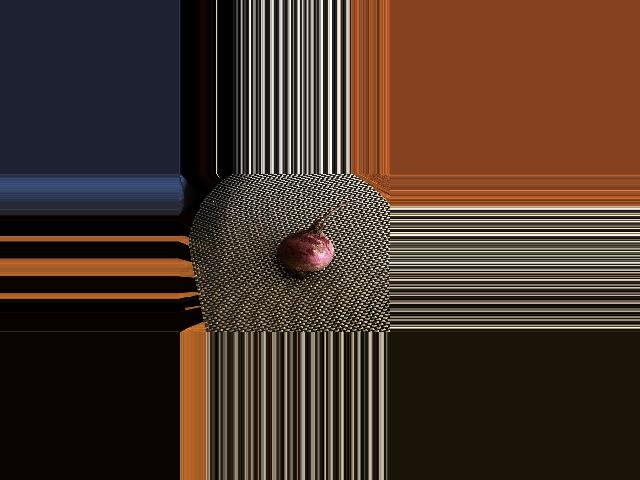beet: (276, 200, 359, 280)
